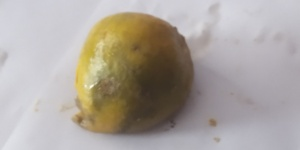BAD: (77, 12, 191, 132)
